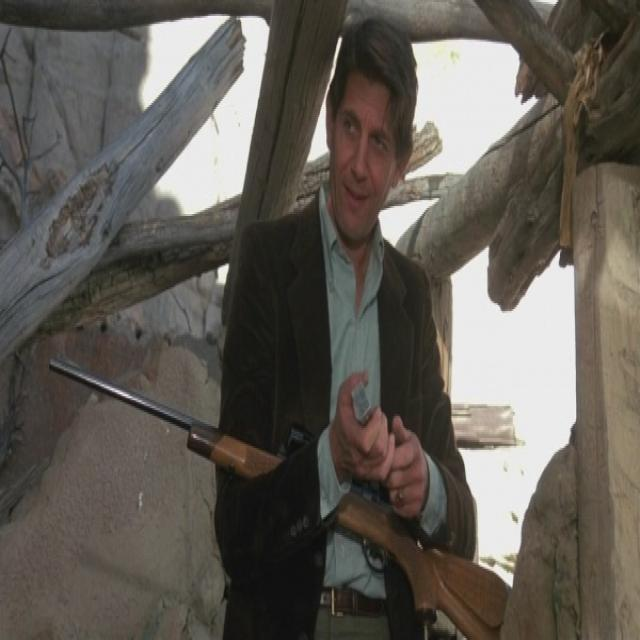rifle: (50, 356, 510, 640)
